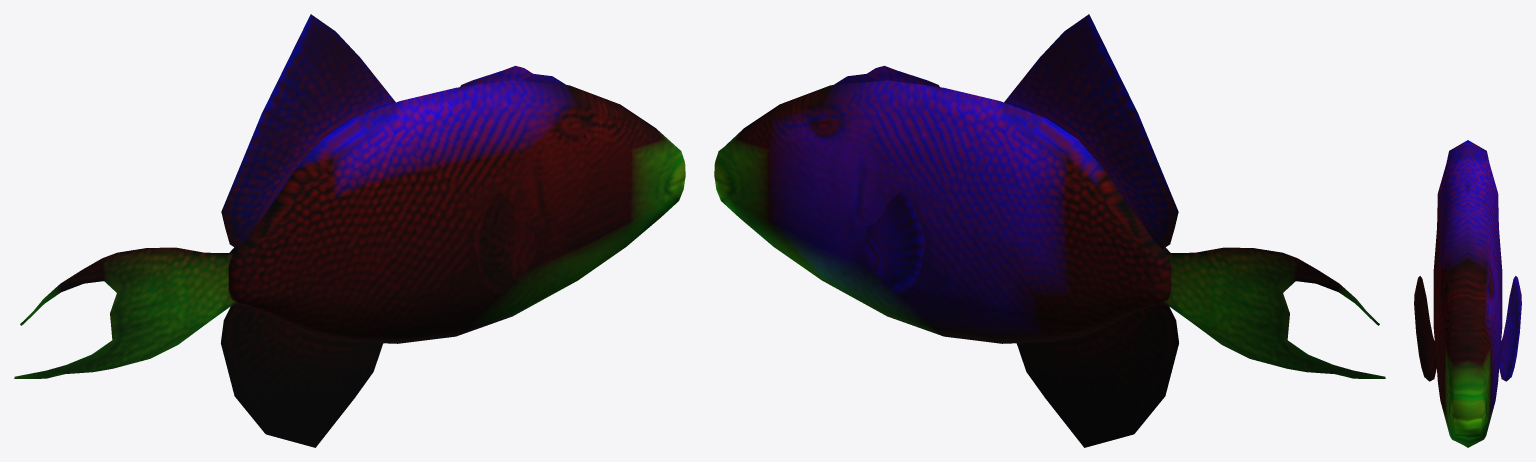
File: blue_triggerfish.glb
The picture shows the model from 3 angles, left to right: view 1: azimuth 30°, elevation 25°; view 2: azimuth 150°, elevation 25°; view 3: azimuth 270°, elevation 25°; orthographic projection. The views are drawn at different scales.
Parts seen in each view (by area): view 1: BlueTriggerfish; view 2: BlueTriggerfish; view 3: BlueTriggerfish.
Part boxes in pixels (bbox=[...]): BlueTriggerfish: bbox=[14, 14, 685, 447]; BlueTriggerfish: bbox=[714, 14, 1385, 447]; BlueTriggerfish: bbox=[1414, 140, 1521, 447].
Size of the model in its own units: 1 by 0.6196 by 0.1476.
1 material, 1 textured.
